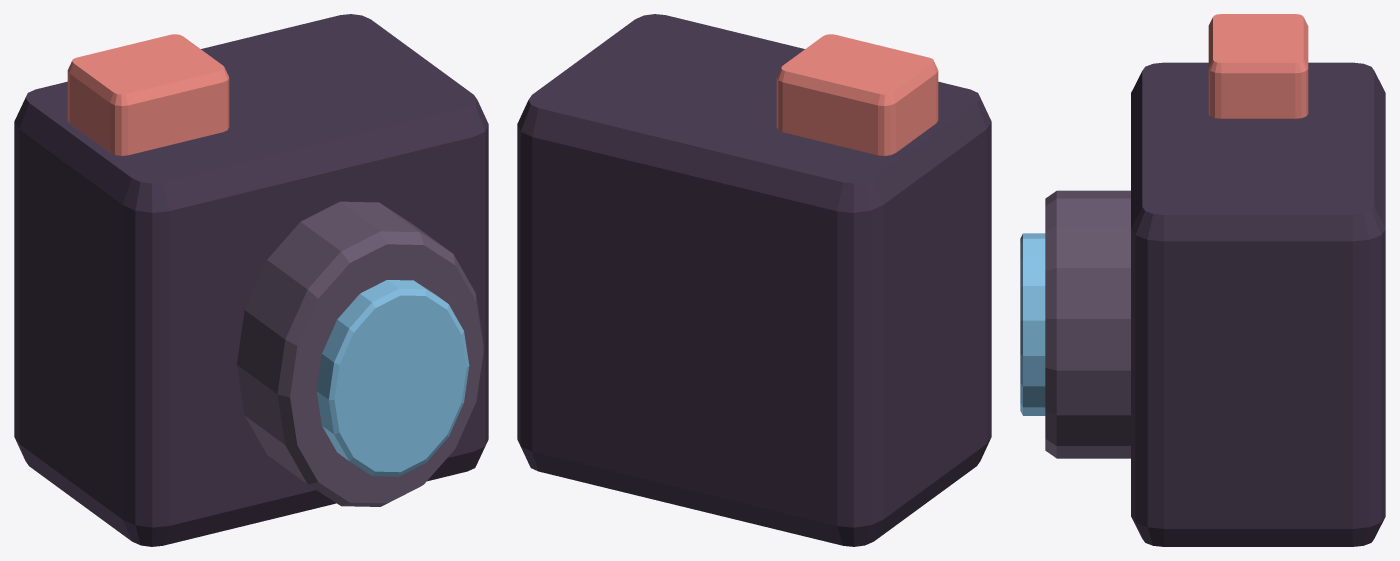
The model's file is ads_camera.glb.
3 renders of one model, left to right at view 1: azimuth 30°, elevation 25°; view 2: azimuth 150°, elevation 25°; view 3: azimuth 270°, elevation 25°, orthographic. The views are drawn at different scales.
Visible parts, largest first — view 1: model; view 2: model; view 3: model.
Boxes of the visible parts, x1,y1,x2,y2 form: model: [14, 14, 488, 546]; model: [517, 14, 991, 546]; model: [1020, 14, 1385, 546].
Size of the model in its own units: 0.5 by 0.56 by 0.48.
